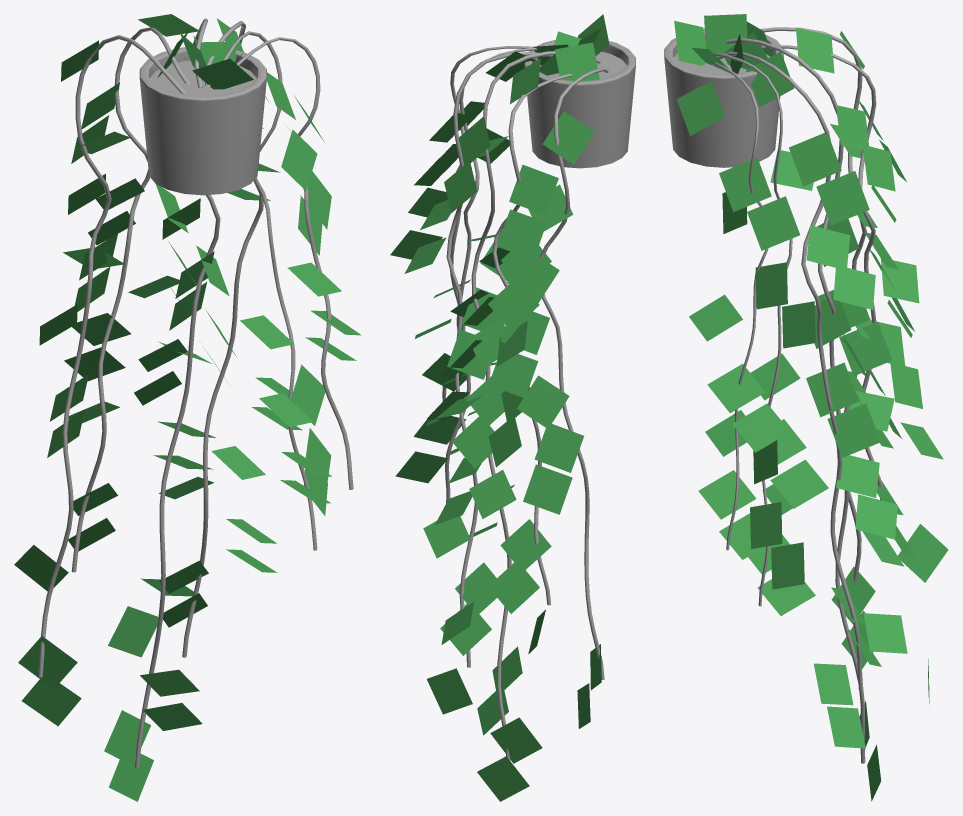
The model's file is vine plant.fbx.
The picture shows the model from 3 angles, left to right: view 1: azimuth 30°, elevation 25°; view 2: azimuth 150°, elevation 25°; view 3: azimuth 270°, elevation 25°; orthographic projection. The views are drawn at different scales.
Visible parts, largest first — view 1: sweep6, pPlane35, pPlane33, pCylinder8, pPlane34; view 2: pPlane34, pPlane33, pPlane35, sweep6, pCylinder8; view 3: pPlane33, pPlane34, pPlane35, sweep6, pCylinder8.
Boxes of the visible parts, bbox=[...] form: sweep6: bbox=[38, 18, 353, 768]; pPlane35: bbox=[14, 14, 341, 657]; pPlane33: bbox=[18, 30, 361, 765]; pCylinder8: bbox=[139, 47, 266, 195]; pPlane34: bbox=[22, 115, 356, 801]; pPlane34: bbox=[390, 144, 590, 801]; pPlane33: bbox=[408, 14, 609, 763]; pPlane35: bbox=[422, 51, 594, 714]; sweep6: bbox=[442, 46, 608, 760]; pCylinder8: bbox=[524, 37, 635, 168]; pPlane33: bbox=[674, 14, 905, 750]; pPlane34: bbox=[719, 140, 922, 801]; pPlane35: bbox=[676, 27, 948, 703]; sweep6: bbox=[711, 27, 883, 763]; pCylinder8: bbox=[664, 28, 783, 167].
Size of the model in its own units: 67.46 by 193 by 64.06.
